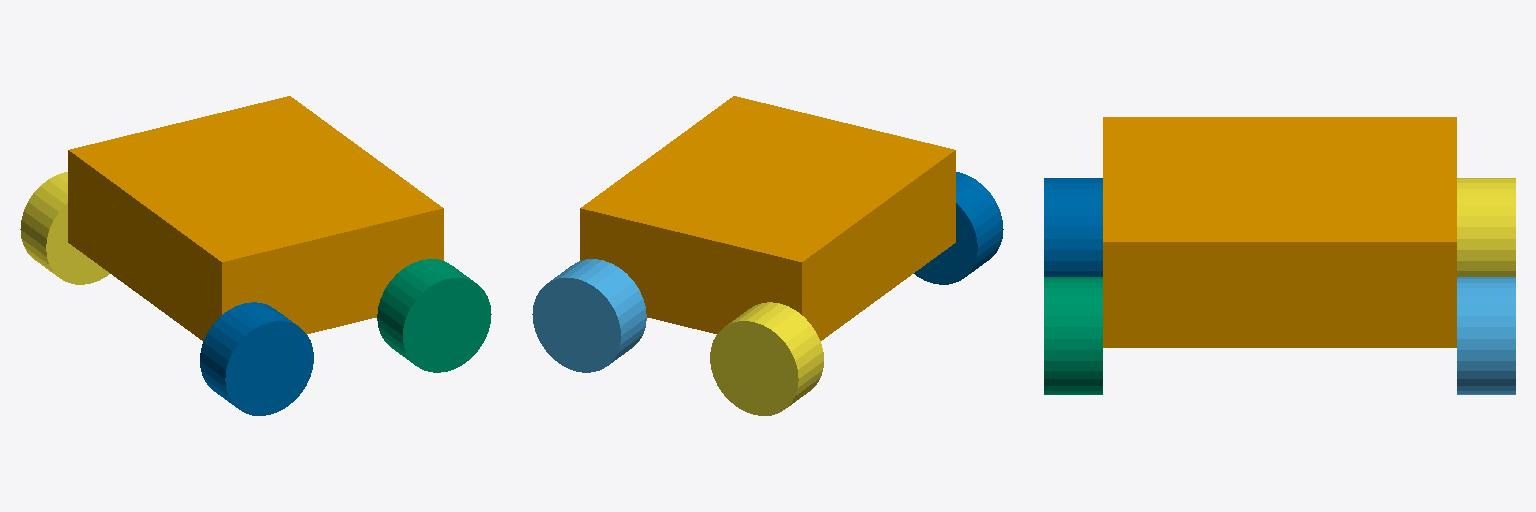
The robot description file, URDF, robot "nucobot":
<?xml version="1.0" ?>
<robot name="nucobot">
  <joint name="nucobot__left_front_wheel_hinge" type="fixed">
    <parent link="nucobot__chassis"/>
    <child link="nucobot__left_front_wheel"/>
    <origin rpy="0      1.5707  1.5707" xyz="0.09999  0.14499  0.04999"/>
    <axis xyz="9.00000000e-05   9.00000000e-05   1.00000000e+00"/>
    <limit effort="0" lower="0" upper="0" velocity="0"/>
  </joint>
  <joint name="nucobot__right_front_wheel_hinge" type="fixed">
    <parent link="nucobot__chassis"/>
    <child link="nucobot__right_front_wheel"/>
    <origin rpy="0      1.5707  1.5707" xyz="0.1     -0.14499  0.05"/>
    <axis xyz="9.00000000e-05   9.00000000e-05   1.00000000e+00"/>
    <limit effort="0" lower="0" upper="0" velocity="0"/>
  </joint>
  <joint name="nucobot__left_back_wheel_hinge" type="fixed">
    <parent link="nucobot__chassis"/>
    <child link="nucobot__left_back_wheel"/>
    <origin rpy="0      1.5707  1.5707" xyz="-0.1      0.14499  0.04999"/>
    <axis xyz="9.00000000e-05   9.00000000e-05   1.00000000e+00"/>
    <limit effort="0" lower="0" upper="0" velocity="0"/>
  </joint>
  <joint name="nucobot__right_back_wheel_hinge" type="fixed">
    <parent link="nucobot__chassis"/>
    <child link="nucobot__right_back_wheel"/>
    <origin rpy="0      1.5707  1.5707" xyz="-0.09999 -0.14499  0.05"/>
    <axis xyz="9.00000000e-05   9.00000000e-05   1.00000000e+00"/>
    <limit effort="0" lower="0" upper="0" velocity="0"/>
  </joint>
  <link name="nucobot__chassis">
    <inertial>
      <mass value="0"/>
      <origin rpy="0  0  0" xyz="0   0   0.1"/>
      <inertia ixx="0" ixy="0" ixz="0" iyy="0" iyz="0" izz="0"/>
    </inertial>
    <collision name="nucobot__collision">
      <origin rpy="0  0  0" xyz="0   0   0.1"/>
      <geometry>
        <box size=".25 .3 .1"/>
      </geometry>
    </collision>
    <visual name="nucobot__visual">
      <origin rpy="0  0  0" xyz="0   0   0.1"/>
      <geometry>
        <box size=".25 .3 .1"/>
      </geometry>
    </visual>
  </link>
  <link name="nucobot__left_front_wheel">
    <inertial>
      <mass value="0"/>
      <origin rpy="0  0  0" xyz="0    0    0.03"/>
      <inertia ixx="0" ixy="0" ixz="0" iyy="0" iyz="0" izz="0"/>
    </inertial>
    <collision name="nucobot__collision">
      <origin rpy="0  0  0" xyz="0    0    0.03"/>
      <geometry>
        <cylinder length=".05" radius=".05"/>
      </geometry>
    </collision>
    <visual name="nucobot__visual">
      <origin rpy="0  0  0" xyz="0    0    0.03"/>
      <geometry>
        <cylinder length=".05" radius=".05"/>
      </geometry>
    </visual>
  </link>
  <link name="nucobot__right_front_wheel">
    <inertial>
      <mass value="0"/>
      <origin rpy="0  0  0" xyz="0    0   -0.03"/>
      <inertia ixx="0" ixy="0" ixz="0" iyy="0" iyz="0" izz="0"/>
    </inertial>
    <collision name="nucobot__collision">
      <origin rpy="0  0  0" xyz="0    0   -0.03"/>
      <geometry>
        <cylinder length=".05" radius=".05"/>
      </geometry>
    </collision>
    <visual name="nucobot__visual">
      <origin rpy="0  0  0" xyz="0    0   -0.03"/>
      <geometry>
        <cylinder length=".05" radius=".05"/>
      </geometry>
    </visual>
  </link>
  <link name="nucobot__left_back_wheel">
    <inertial>
      <mass value="0"/>
      <origin rpy="0  0  0" xyz="0    0    0.03"/>
      <inertia ixx="0" ixy="0" ixz="0" iyy="0" iyz="0" izz="0"/>
    </inertial>
    <collision name="nucobot__collision">
      <origin rpy="0  0  0" xyz="0    0    0.03"/>
      <geometry>
        <cylinder length=".05" radius=".05"/>
      </geometry>
    </collision>
    <visual name="nucobot__visual">
      <origin rpy="0  0  0" xyz="0    0    0.03"/>
      <geometry>
        <cylinder length=".05" radius=".05"/>
      </geometry>
    </visual>
  </link>
  <link name="nucobot__right_back_wheel">
    <inertial>
      <mass value="0"/>
      <origin rpy="0  0  0" xyz="0    0   -0.03"/>
      <inertia ixx="0" ixy="0" ixz="0" iyy="0" iyz="0" izz="0"/>
    </inertial>
    <collision name="nucobot__collision">
      <origin rpy="0  0  0" xyz="0    0   -0.03"/>
      <geometry>
        <cylinder length=".05" radius=".05"/>
      </geometry>
    </collision>
    <visual name="nucobot__visual">
      <origin rpy="0  0  0" xyz="0    0   -0.03"/>
      <geometry>
        <cylinder length=".05" radius=".05"/>
      </geometry>
    </visual>
  </link>
</robot>

--- What the picture shows (computed from the rendered views, not written in the file) ---
3 views of the same robot in one strip: view 1: azimuth 30°, elevation 25°; view 2: azimuth 150°, elevation 25°; view 3: azimuth 270°, elevation 25° (orthographic).
Robot: nucobot — 5 links, 4 joints (4 fixed); root link nucobot__chassis; default pose: all joints at 0.
Links seen in each view (by area): view 1: nucobot__chassis, nucobot__right_front_wheel, nucobot__right_back_wheel, nucobot__left_back_wheel; view 2: nucobot__chassis, nucobot__left_front_wheel, nucobot__left_back_wheel, nucobot__right_back_wheel; view 3: nucobot__chassis, nucobot__left_front_wheel, nucobot__right_front_wheel, nucobot__left_back_wheel, nucobot__right_back_wheel.
Link boxes in pixels (left/top/right/bottom): nucobot__chassis: left=68, top=96, right=443, bottom=340; nucobot__right_front_wheel: left=377, top=259, right=491, bottom=372; nucobot__right_back_wheel: left=200, top=302, right=313, bottom=415; nucobot__left_back_wheel: left=20, top=172, right=109, bottom=284; nucobot__chassis: left=580, top=96, right=955, bottom=340; nucobot__left_front_wheel: left=532, top=259, right=646, bottom=372; nucobot__left_back_wheel: left=710, top=302, right=823, bottom=415; nucobot__right_back_wheel: left=914, top=172, right=1003, bottom=284; nucobot__chassis: left=1103, top=117, right=1456, bottom=347; nucobot__left_front_wheel: left=1457, top=277, right=1515, bottom=394; nucobot__right_front_wheel: left=1044, top=277, right=1102, bottom=394; nucobot__left_back_wheel: left=1457, top=178, right=1515, bottom=276; nucobot__right_back_wheel: left=1044, top=178, right=1102, bottom=276.
Bounding box of the posed robot: 0.3 × 0.4 × 0.15 m (x, y, z).
Geometry: primitives only (box / cylinder / sphere), no mesh files.